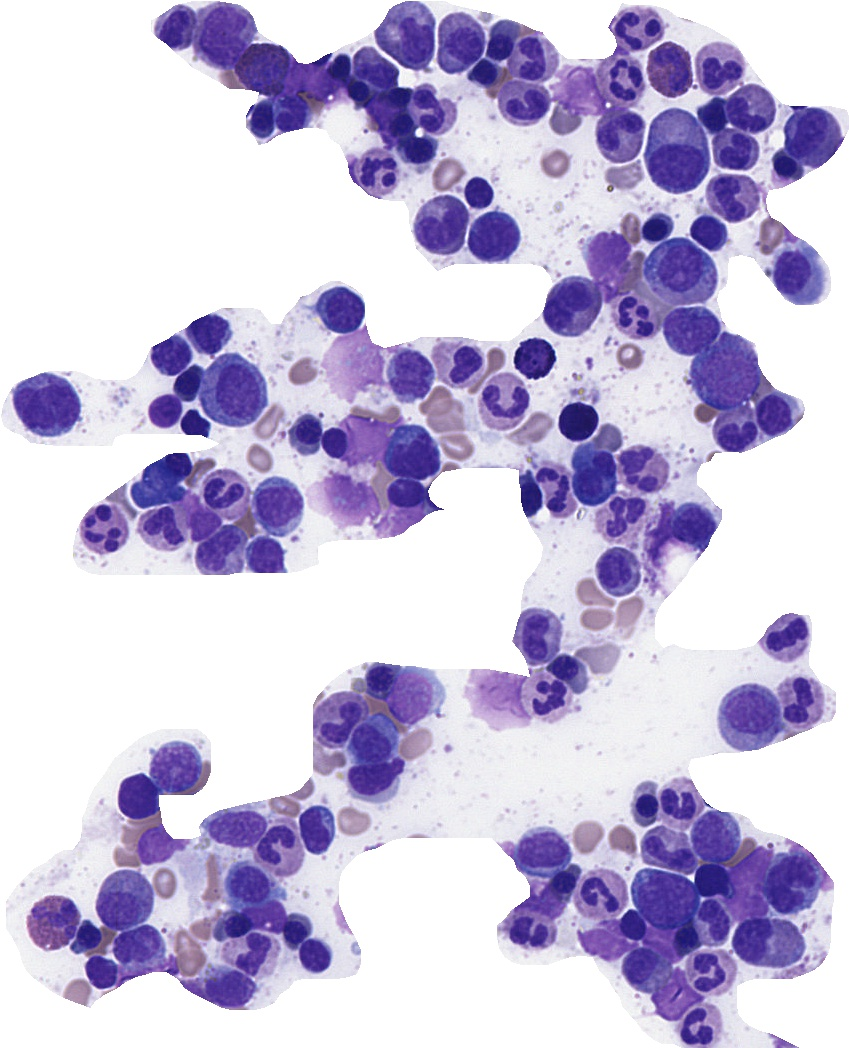objectness: (508, 333, 558, 383), (145, 443, 195, 493), (571, 447, 621, 497), (774, 251, 824, 301), (385, 347, 435, 397), (763, 859, 813, 909), (267, 91, 317, 141), (609, 293, 659, 343), (601, 52, 651, 102), (77, 503, 127, 553), (695, 47, 745, 97), (534, 459, 584, 509), (777, 680, 827, 730), (684, 946, 734, 996), (498, 80, 548, 130), (615, 2, 665, 52), (575, 866, 625, 916), (707, 174, 757, 224), (477, 378, 527, 428), (506, 908, 556, 958), (598, 491, 648, 541), (656, 783, 706, 833), (226, 929, 276, 979), (641, 825, 691, 875), (762, 615, 812, 665), (350, 148, 400, 198), (598, 107, 648, 157), (525, 674, 575, 724), (195, 470, 245, 520), (410, 82, 460, 132), (315, 695, 365, 745), (616, 445, 666, 495), (251, 817, 301, 867), (545, 280, 595, 330), (743, 916, 793, 966), (729, 689, 779, 739), (385, 9, 435, 59), (591, 546, 641, 596), (619, 945, 669, 995), (437, 17, 487, 67), (100, 876, 150, 926), (789, 110, 839, 160), (646, 43, 696, 93), (27, 897, 77, 947), (238, 44, 288, 94), (415, 201, 465, 251), (726, 85, 776, 135), (506, 31, 556, 81), (715, 408, 765, 458), (136, 503, 186, 553), (439, 342, 489, 392), (153, 1, 203, 51), (195, 528, 245, 578), (684, 898, 734, 948), (515, 612, 565, 662), (710, 125, 760, 175), (24, 378, 74, 428), (468, 212, 518, 262), (637, 871, 687, 921), (662, 304, 712, 354), (703, 347, 753, 397), (211, 802, 261, 852), (651, 972, 701, 1022), (238, 892, 288, 942), (384, 429, 434, 479), (348, 715, 398, 765), (196, 8, 246, 58), (314, 479, 364, 529), (151, 737, 201, 787), (388, 671, 438, 721), (224, 859, 274, 909), (506, 474, 556, 524), (250, 479, 300, 529), (653, 915, 703, 965), (346, 757, 396, 807), (170, 400, 220, 450), (367, 75, 417, 125), (292, 929, 342, 979), (109, 773, 159, 823), (143, 384, 193, 434), (380, 465, 430, 515), (556, 393, 606, 443), (723, 863, 773, 913), (344, 411, 394, 461), (178, 497, 228, 547), (200, 959, 250, 1009), (309, 415, 359, 465), (277, 53, 327, 103), (112, 923, 162, 973), (132, 823, 182, 873), (580, 230, 630, 280), (474, 670, 524, 720), (373, 101, 423, 151), (580, 916, 630, 966), (330, 336, 380, 386), (553, 63, 603, 113), (521, 826, 571, 876), (353, 43, 403, 93), (302, 59, 352, 109), (605, 897, 655, 947), (692, 813, 742, 863), (315, 285, 365, 335), (149, 334, 199, 384), (749, 388, 799, 438), (185, 311, 235, 361), (454, 168, 504, 218), (75, 945, 125, 995), (239, 529, 289, 579), (294, 803, 344, 853), (665, 498, 715, 548), (762, 141, 812, 191), (282, 407, 332, 457), (334, 68, 384, 118), (238, 93, 288, 143), (208, 900, 258, 950), (268, 907, 318, 957), (460, 47, 510, 97), (629, 203, 679, 253), (476, 16, 526, 66), (620, 778, 670, 828), (540, 859, 590, 909), (354, 658, 404, 708), (545, 645, 595, 695), (682, 204, 732, 254), (163, 359, 213, 409), (393, 125, 443, 175), (62, 911, 112, 961), (656, 247, 706, 297), (213, 368, 263, 418), (651, 128, 701, 178), (674, 1002, 724, 1048)
